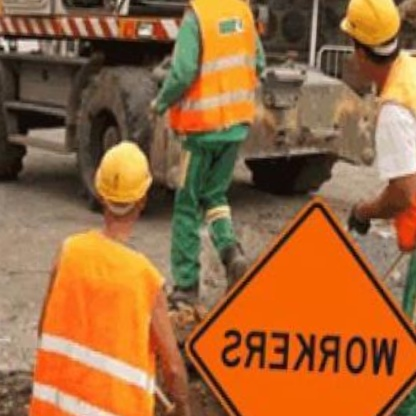vest: (24, 224, 174, 416), (167, 0, 270, 135), (367, 48, 416, 261)
yellow: (91, 131, 163, 205), (338, 0, 409, 49)
